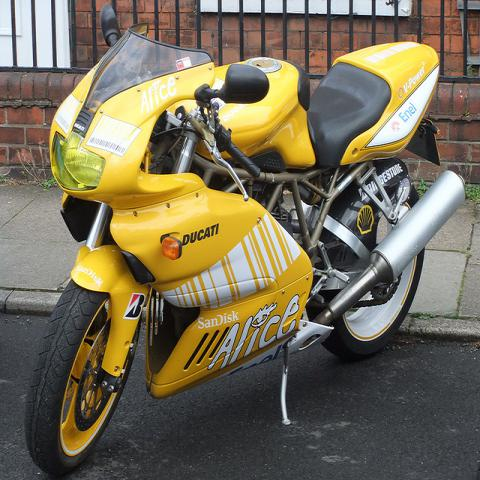motorcycle: (19, 3, 467, 475)
